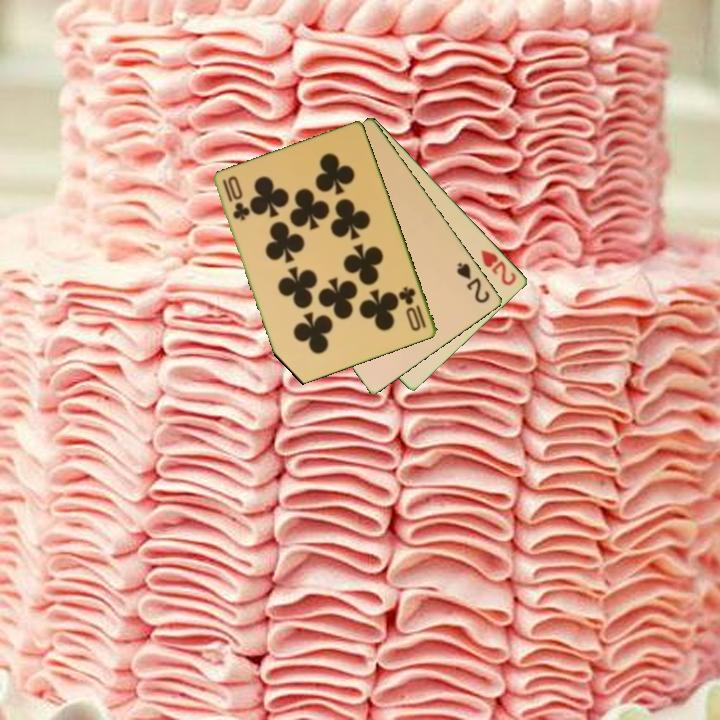10c: (396, 283, 430, 334), (219, 172, 252, 224)
2h: (478, 246, 520, 289)
2s: (453, 258, 493, 306)
